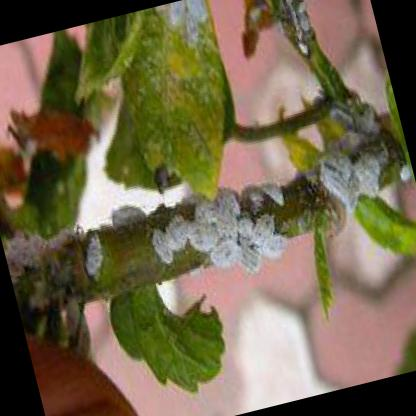mealy bug: (322, 166, 349, 204), (187, 223, 218, 254), (164, 214, 189, 251), (211, 239, 241, 269), (154, 228, 174, 267), (251, 215, 275, 245), (240, 244, 262, 273), (216, 216, 239, 241), (263, 237, 290, 258)
